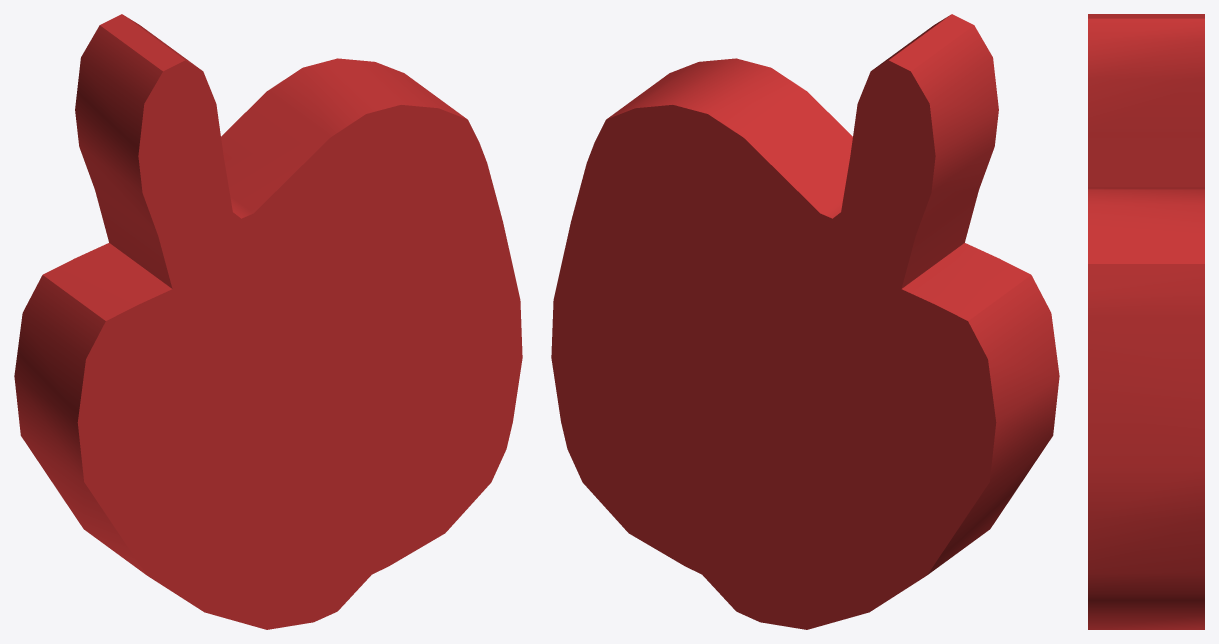
File: adams_apple_body.obj
The picture shows the model from 3 angles, left to right: view 1: azimuth 30°, elevation 25°; view 2: azimuth 150°, elevation 25°; view 3: azimuth 270°, elevation 25°; orthographic projection. The views are drawn at different scales.
Parts seen in each view (by area): view 1: adams_apple_visual; view 2: adams_apple_visual; view 3: adams_apple_visual.
Boxes of the visible parts, x1,y1,x2,y2 form: adams_apple_visual: (14, 14, 522, 629); adams_apple_visual: (551, 14, 1059, 629); adams_apple_visual: (1088, 14, 1204, 629).
Bounding box in the file's own units: 0.00811 × 0.0103 × 0.002.
